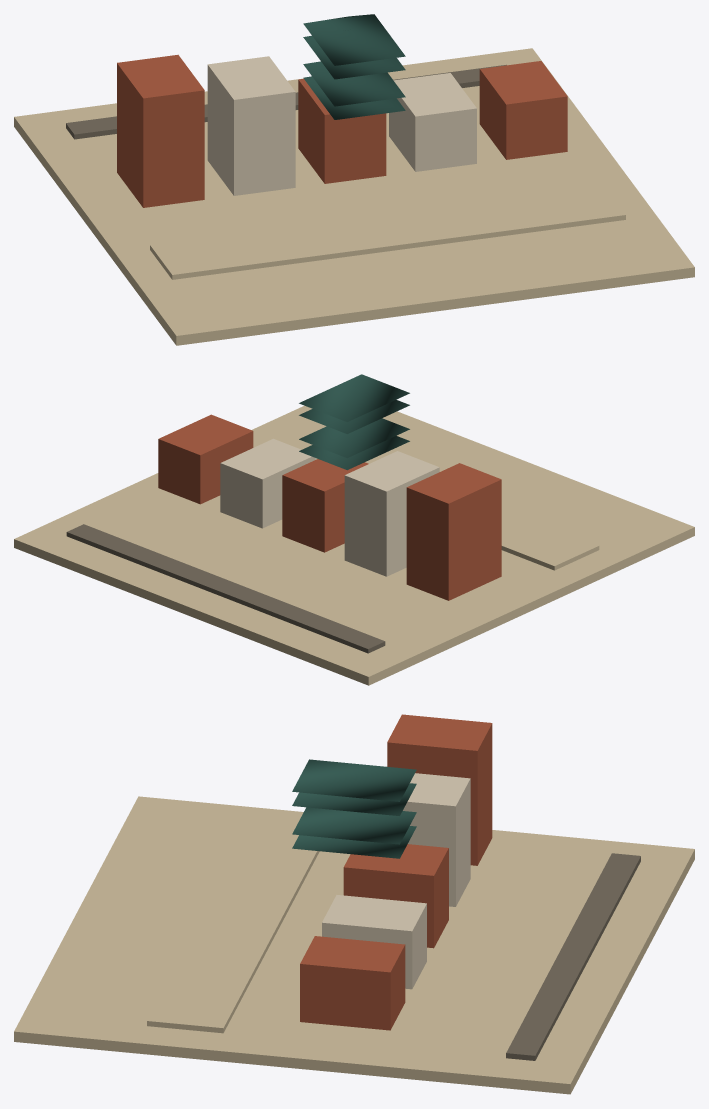
The model's file is model-medium.glb.
3 views of the same model, one above another, from view 1: azimuth 30°, elevation 25°; view 2: azimuth 150°, elevation 25°; view 3: azimuth 270°, elevation 25° (orthographic). The views are drawn at different scales.
Parts seen in each view (by area): view 1: context_site_plinth, street_public_axis, street_facade_0, street_facade_1, street_facade_4, street_facade_3, street_facade_2, street_roof_0, street_roof_2, front_scale_strip, street_roof_1, street_roof_3; view 2: context_site_plinth, street_facade_0, street_facade_1, front_scale_strip, street_facade_4, street_facade_3, street_facade_2, street_public_axis, street_roof_0, street_roof_2, street_roof_3, street_roof_1; view 3: context_site_plinth, street_public_axis, street_facade_4, street_facade_0, front_scale_strip, street_facade_2, street_facade_1, street_facade_3, street_roof_0, street_roof_2, street_roof_1, street_roof_3.
Boxes of the visible parts, <box> form: context_site_plinth: <box>14,48,694,345</box>; street_public_axis: <box>150,185,625,279</box>; street_facade_0: <box>117,54,204,207</box>; street_facade_1: <box>207,56,295,195</box>; street_facade_4: <box>479,61,567,159</box>; street_facade_3: <box>389,73,476,171</box>; street_facade_2: <box>298,78,386,183</box>; street_roof_0: <box>303,14,405,65</box>; street_roof_2: <box>303,61,405,106</box>; front_scale_strip: <box>66,64,506,139</box>; street_roof_1: <box>303,29,405,79</box>; street_roof_3: <box>303,76,405,119</box>; context_site_plinth: <box>14,405,694,685</box>; street_facade_0: <box>406,463,501,600</box>; street_facade_1: <box>344,451,439,576</box>; front_scale_strip: <box>66,524,385,653</box>; street_facade_4: <box>158,414,253,504</box>; street_facade_3: <box>220,438,315,528</box>; street_facade_2: <box>282,459,368,552</box>; street_public_axis: <box>253,425,599,570</box>; street_roof_0: <box>299,374,409,421</box>; street_roof_2: <box>299,418,409,458</box>; street_roof_3: <box>299,435,409,470</box>; street_roof_1: <box>299,399,409,433</box>; context_site_plinth: <box>14,796,694,1094</box>; street_public_axis: <box>147,815,319,1033</box>; street_facade_4: <box>300,936,405,1030</box>; street_facade_0: <box>387,714,492,865</box>; front_scale_strip: <box>506,853,640,1060</box>; street_facade_2: <box>343,844,448,948</box>; street_facade_1: <box>403,773,470,906</box>; street_facade_3: <box>322,895,426,989</box>; street_roof_0: <box>292,759,416,801</box>; street_roof_2: <box>292,807,416,844</box>; street_roof_1: <box>292,783,416,815</box>; street_roof_3: <box>292,826,416,858</box>.
Bounding box in the file's own units: 9.55 × 2.89 × 9.55.
